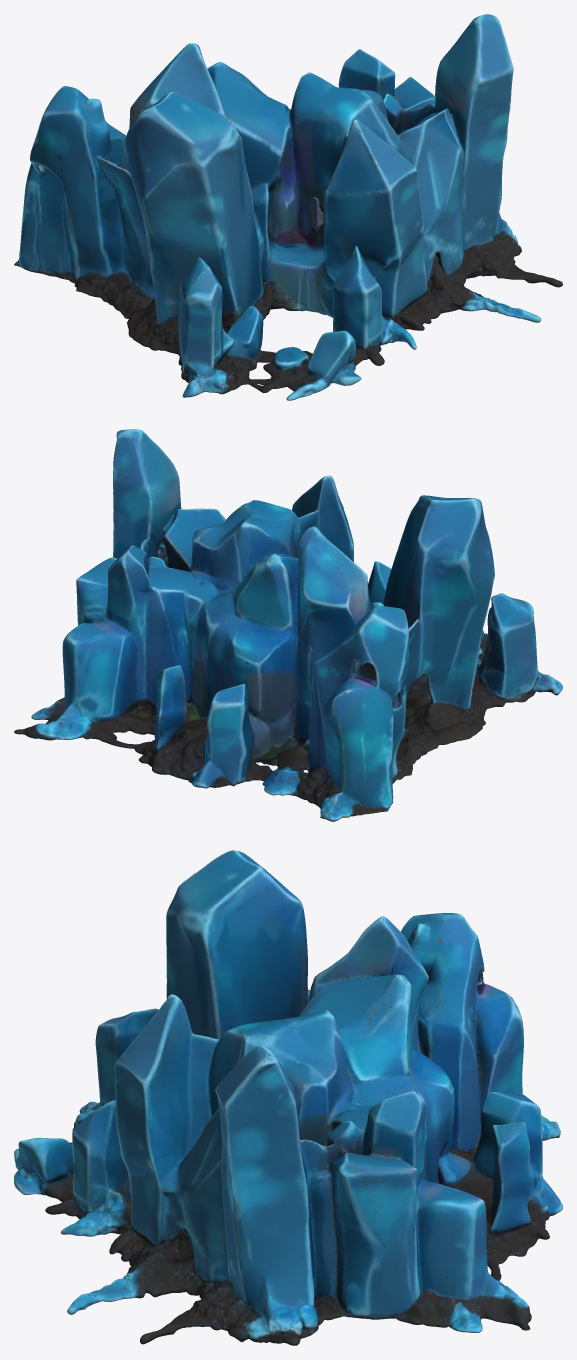
Rendered from azure-crystal-cluster.glb.
The picture shows the model from 3 angles, top to bottom: view 1: azimuth 30°, elevation 25°; view 2: azimuth 150°, elevation 25°; view 3: azimuth 270°, elevation 25°; orthographic projection. The views are drawn at different scales.
Size of the model in its own units: 2 by 1.19 by 1.99.
Materials: 1 (1 with a texture image).
